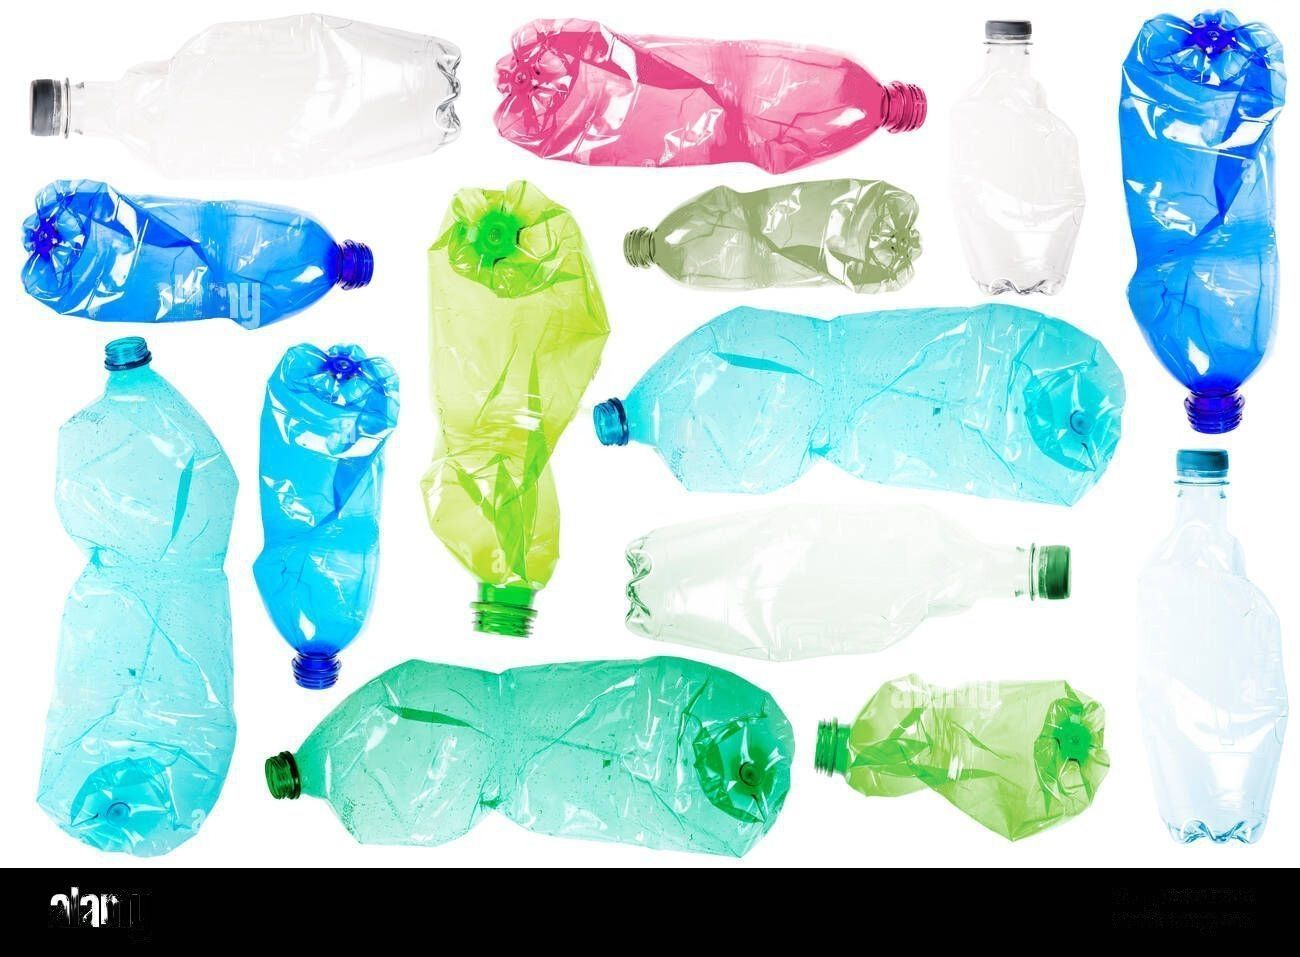plastic_bottle: (41, 331, 246, 858), (492, 15, 929, 171), (16, 178, 380, 327), (813, 675, 1114, 844), (622, 181, 923, 294)
